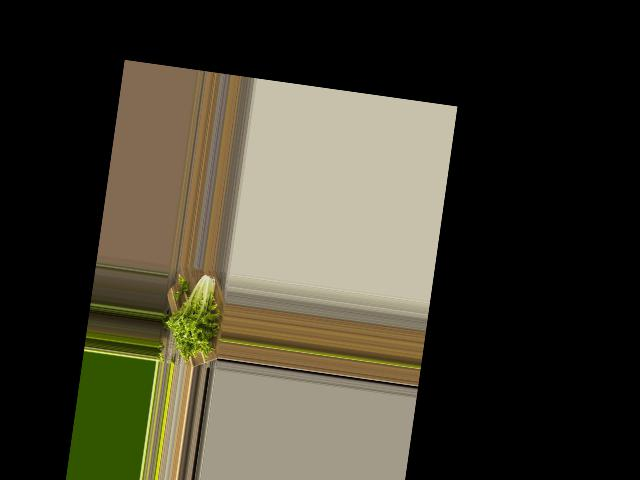lettuce: (163, 265, 227, 361)
